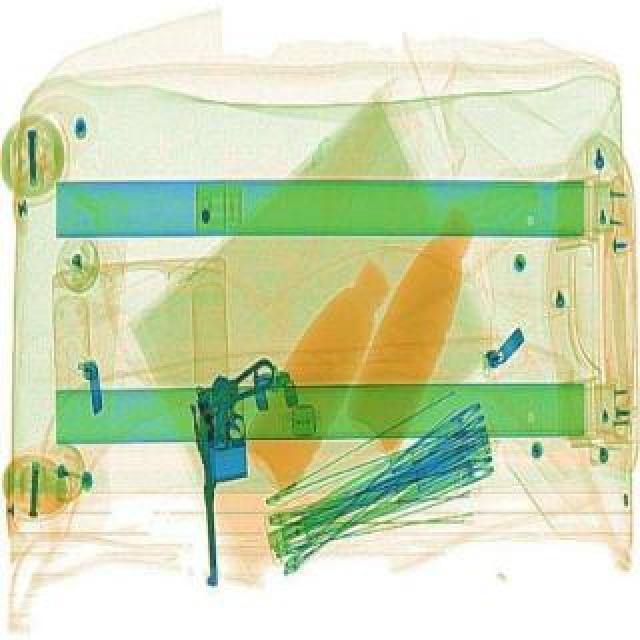gun: (186, 356, 290, 584)
